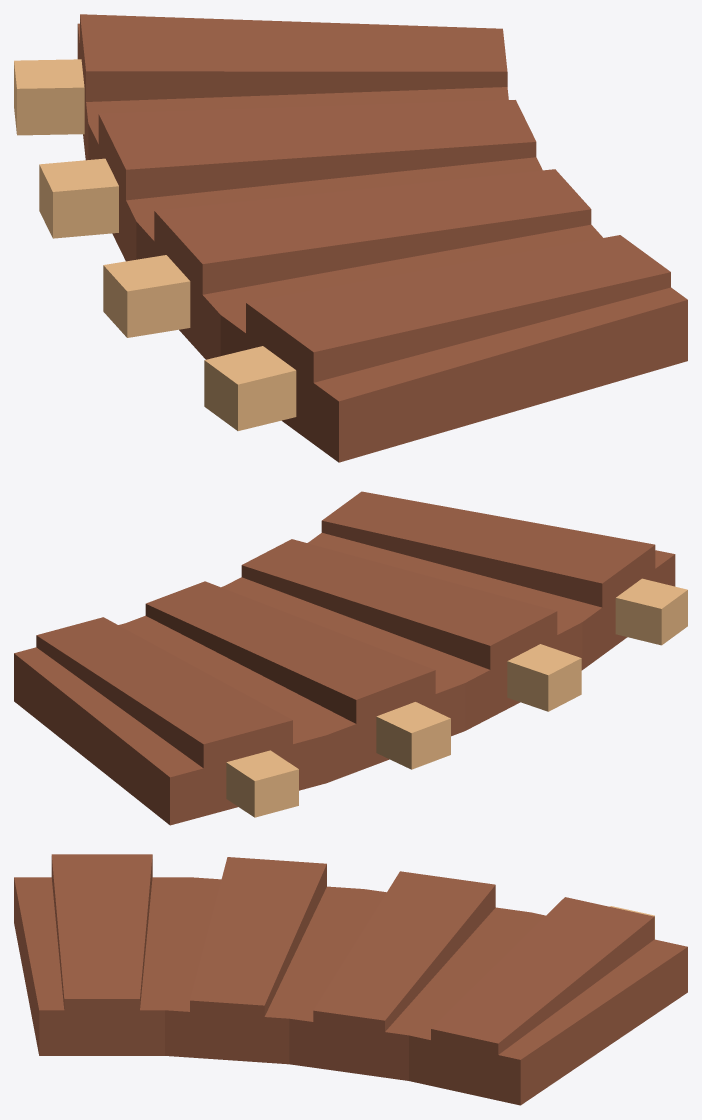
The model's file is meatRibs.obj.
The picture shows the model from 3 angles, top to bottom: view 1: azimuth 30°, elevation 25°; view 2: azimuth 150°, elevation 25°; view 3: azimuth 270°, elevation 25°; orthographic projection. The views are drawn at different scales.
Parts seen in each view (by area): view 1: meatRibs; view 2: meatRibs; view 3: meatRibs.
Part boxes in pixels (bbox=[...]): meatRibs: bbox=[14, 14, 687, 462]; meatRibs: bbox=[14, 491, 687, 825]; meatRibs: bbox=[14, 854, 687, 1105].
Bounding box in the file's own units: 0.3834 × 0.06 × 0.5354.
